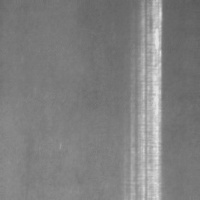scratches: (132, 0, 165, 197)
